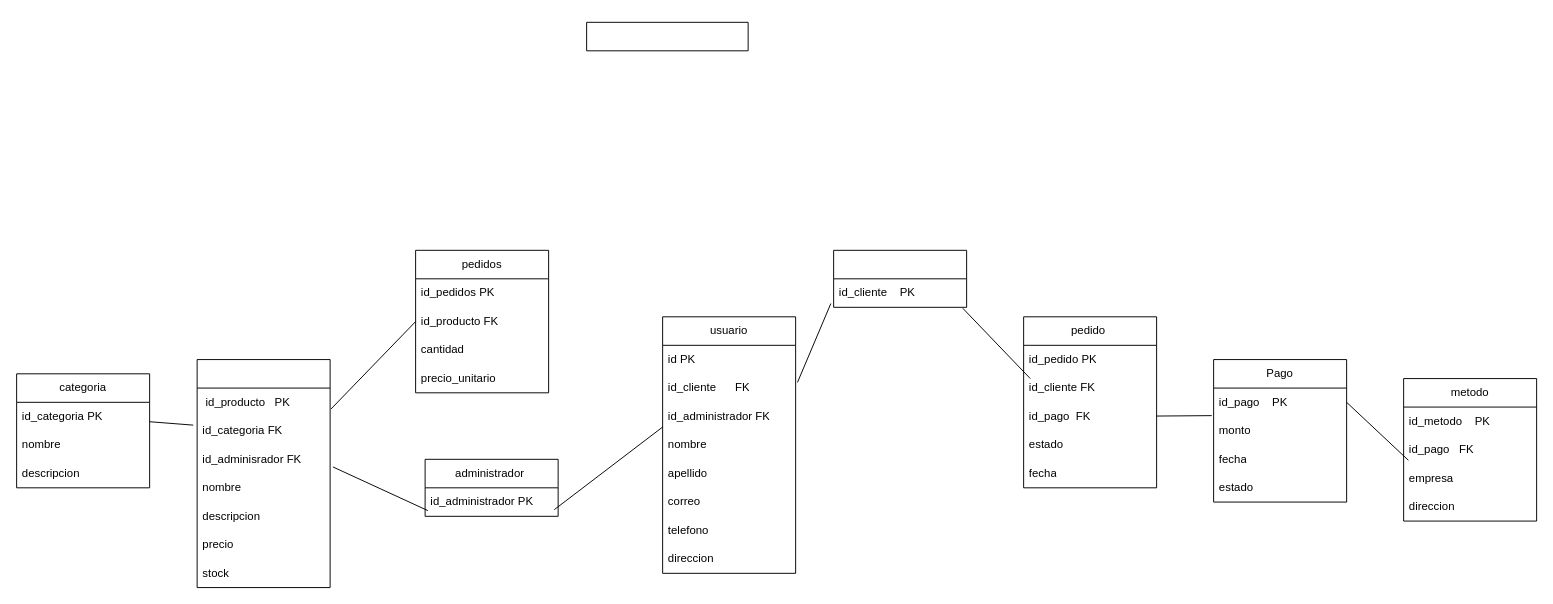
Some shapes in this 1553 by 604 pixel diagram are drawn without their labels. Here are the shapes that lost their labels. From the top down, the box of each, then its label:
(586, 21, 748, 51): NO USAR PANDAS NUMPY PARQUET CARPETA
(833, 249, 967, 307): cliente compras
(196, 359, 330, 588): productos y servicios
